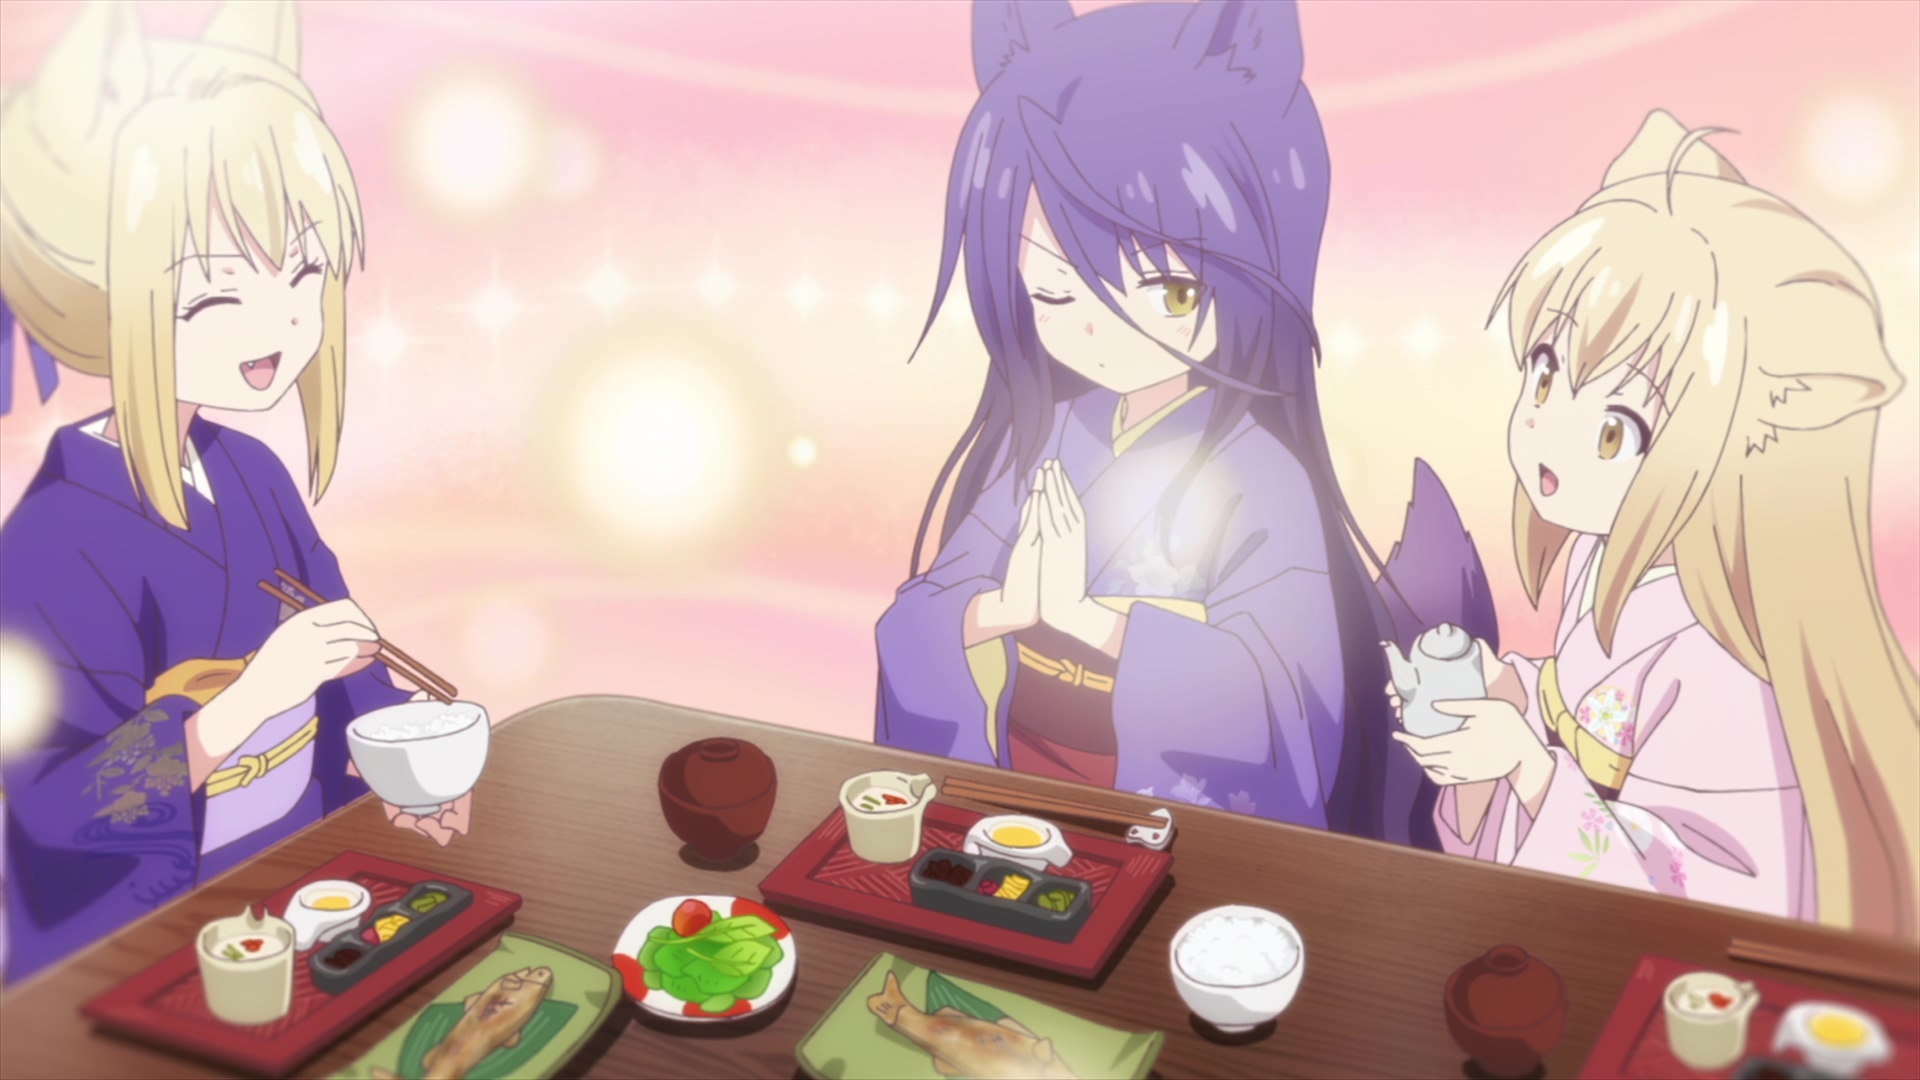柚: (1382, 108, 1920, 944)
桐: (1, 1, 489, 994)
皋: (873, 1, 1495, 853)
